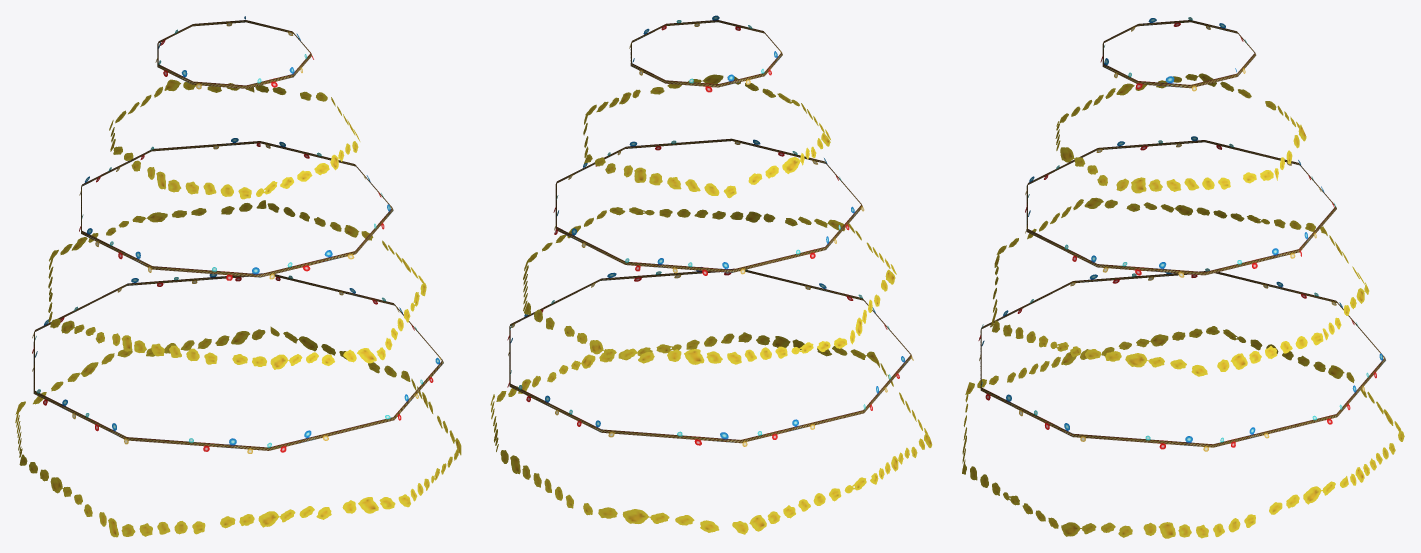
The model's file is christmas_light_a.FBX.
The picture shows the model from 3 angles, left to right: view 1: azimuth 30°, elevation 25°; view 2: azimuth 150°, elevation 25°; view 3: azimuth 270°, elevation 25°; orthographic projection.
Visible parts, largest first — view 1: christmas_light_a; view 2: christmas_light_a; view 3: christmas_light_a.
Part boxes in pixels (<box>): christmas_light_a: <box>15,16,461,537</box>; christmas_light_a: <box>490,15,932,534</box>; christmas_light_a: <box>962,17,1404,538</box>.
Bounding box in the file's own units: 383 × 385 × 380.
1 material, 1 textured.
